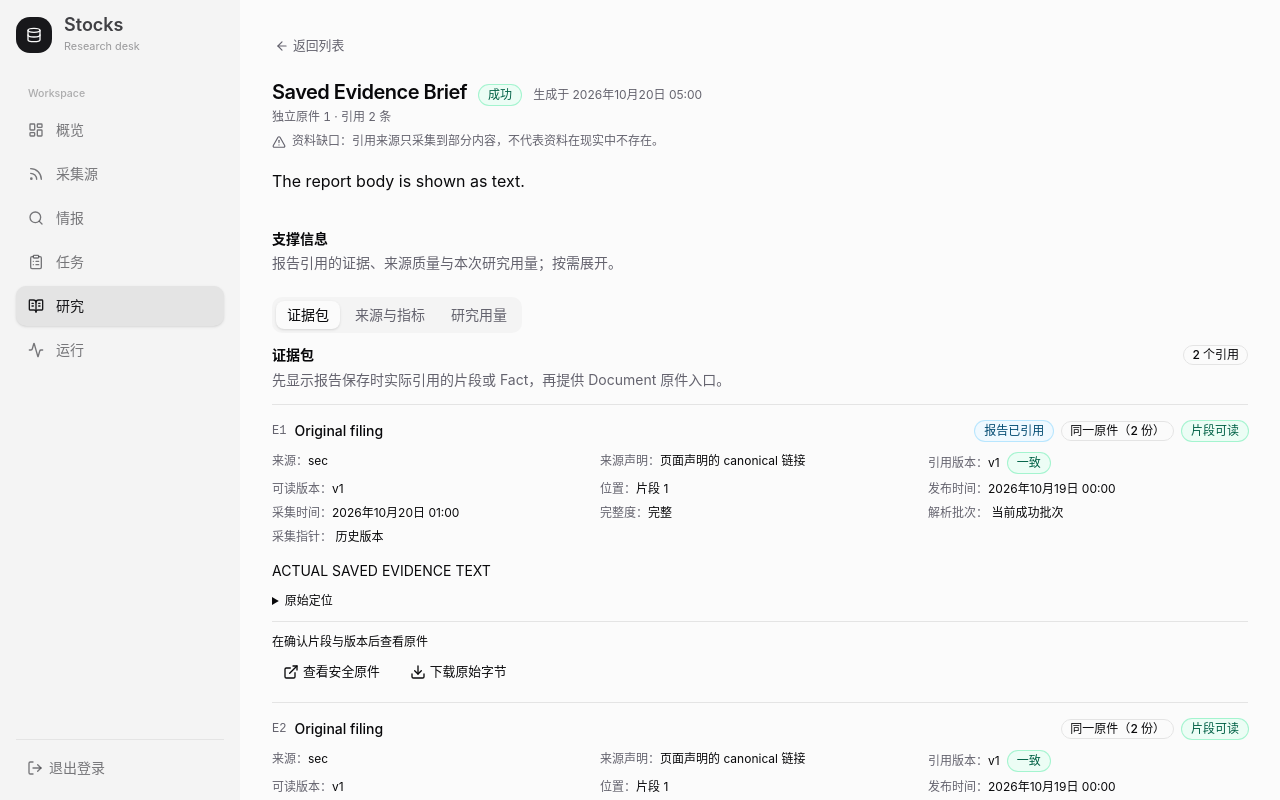
Test: ResearchDetailPage › shows the source independence tab content
Expected: the text "独立原件 1 · 引用 2 条" is shown, left=272, top=109, right=391, bottom=124
Click the tab "来源与指标": (390, 315) left=344, top=301, right=436, bottom=329
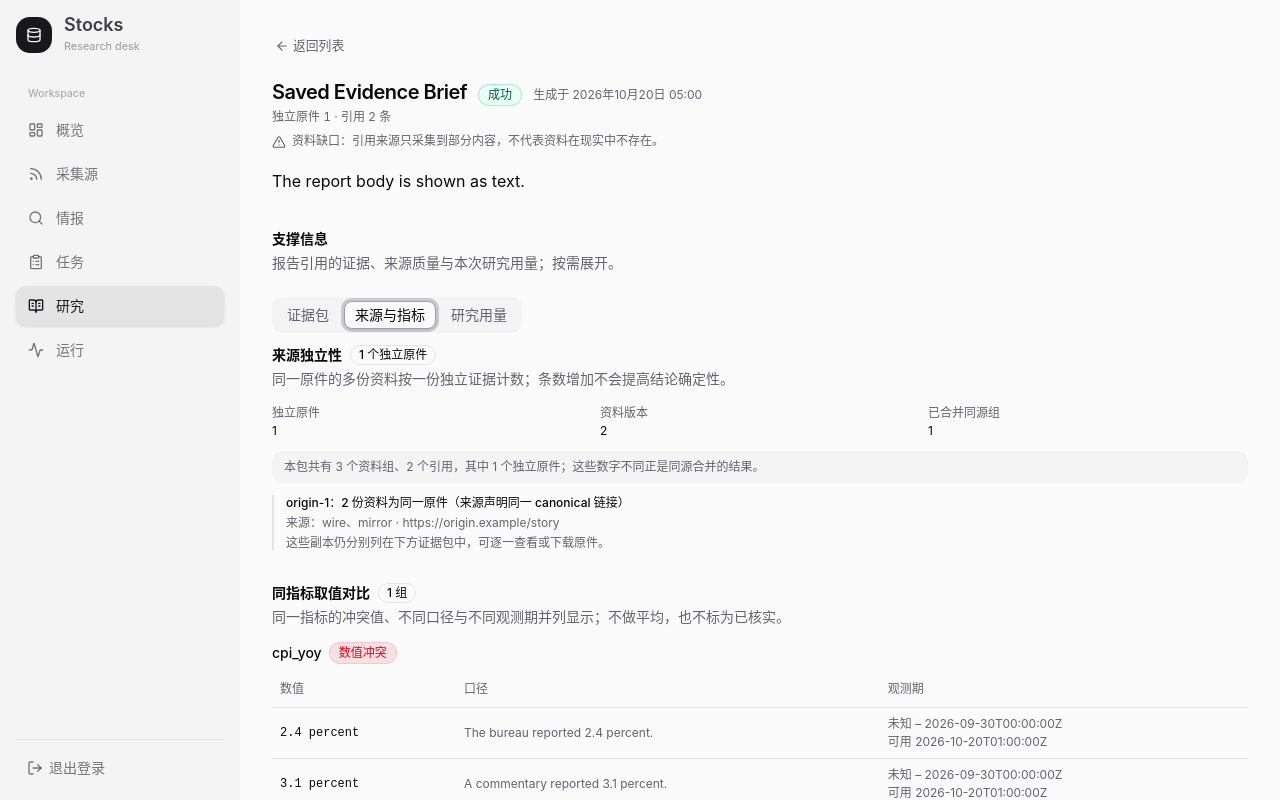
Expected: the heading "来源独立性" is shown, left=272, top=345, right=342, bottom=365
Expected: the text "1 个独立原件" is shown, left=350, top=345, right=436, bottom=365
Expected: the text "本包共有 3 个资料组、2 个引用，其中 1 个独立原件；这些数字不同正是同源合并的结果。" is shown, left=272, top=451, right=1248, bottom=483
Click the tab "证据包": (308, 315) left=276, top=301, right=340, bottom=329
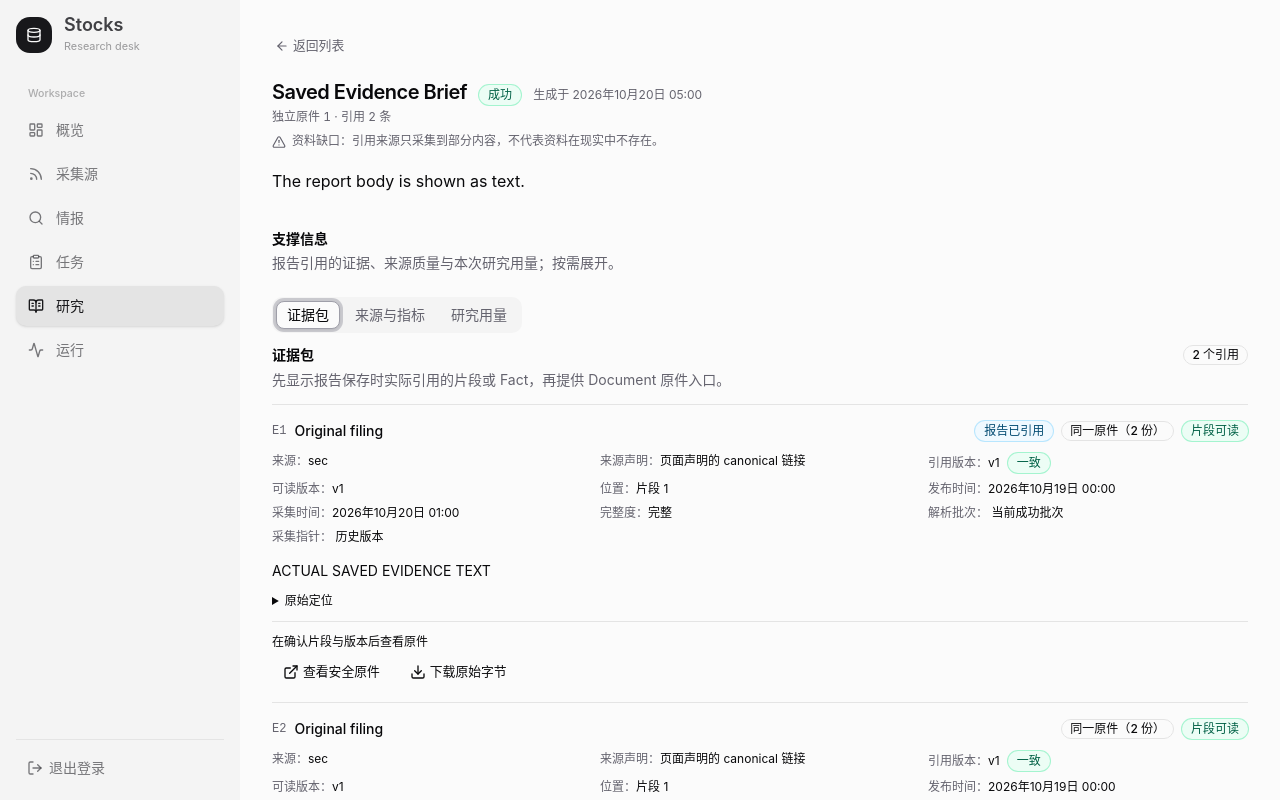
Expected: the text "同一原件（2 份）" is shown 2 times, left=1061, top=421, right=1174, bottom=441; left=1061, top=719, right=1174, bottom=739
Expected: the text "来源声明：页面声明的 canonical 链接" is shown 2 times, left=600, top=453, right=805, bottom=468; left=600, top=751, right=805, bottom=766
